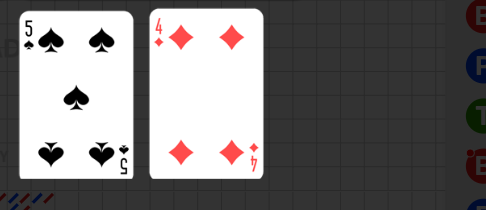4D: (248, 141, 260, 172)
5S: (23, 19, 35, 52)
